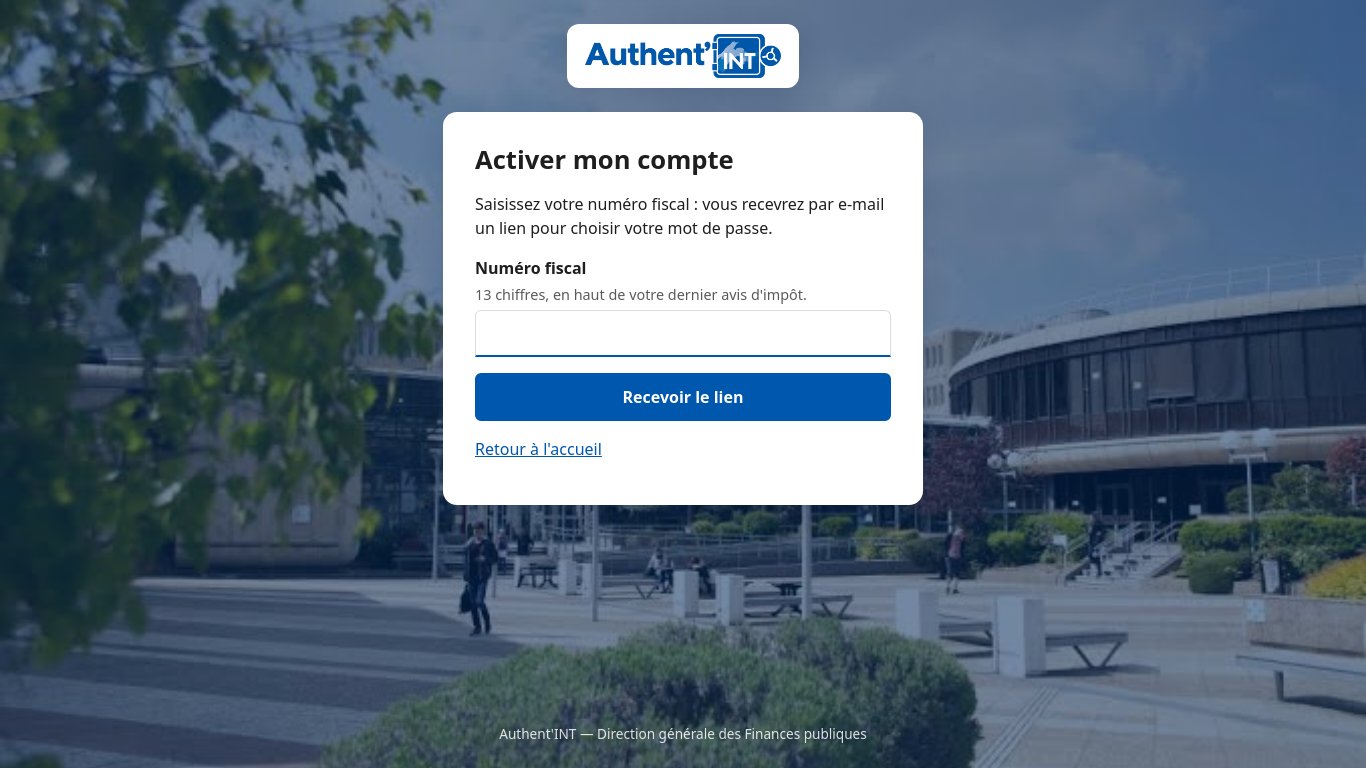
Test: asking for a activation link › says to slow down on 429
The image size is (1366, 768).
Type "0000000000429" into the field labelled "Numéro fiscal" at (683, 333), box [475,310,891,357]
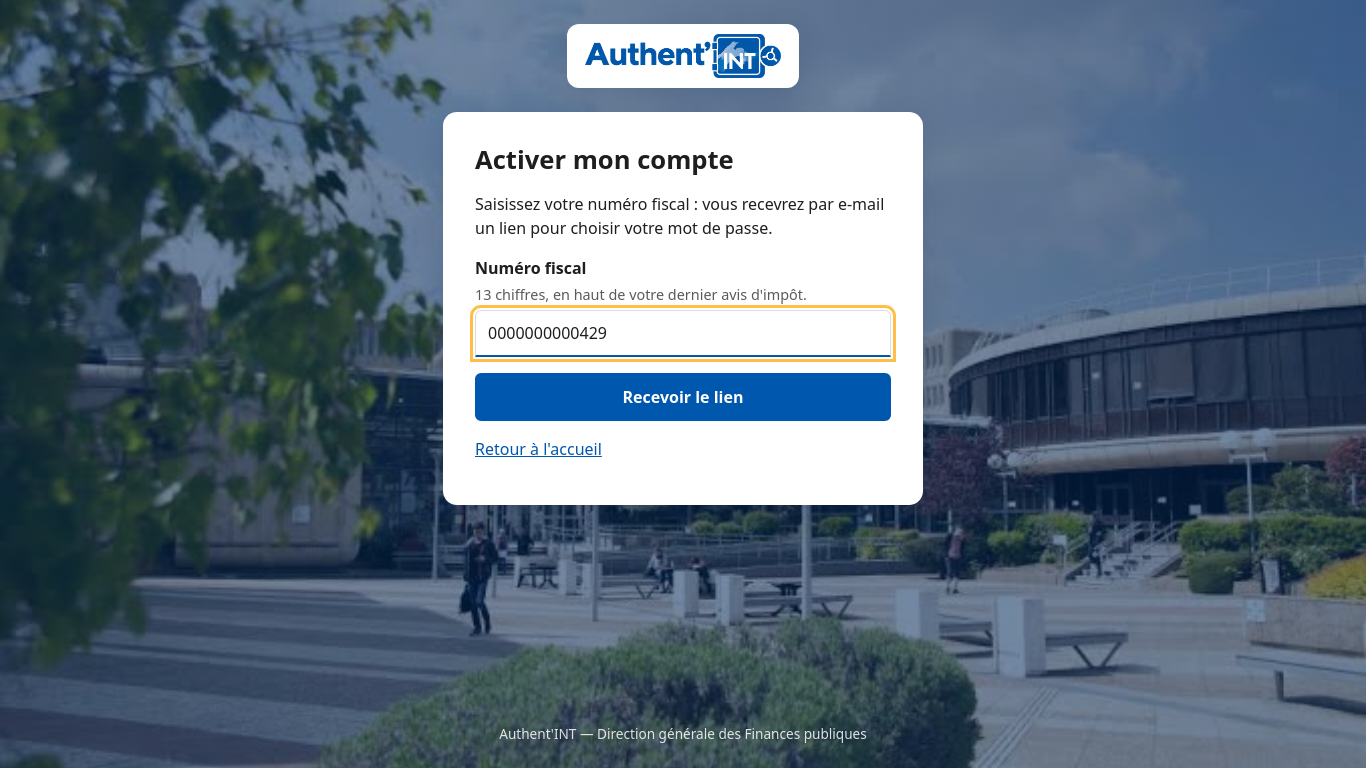
Click the button "Recevoir le lien" at (683, 397), box [475,373,891,421]
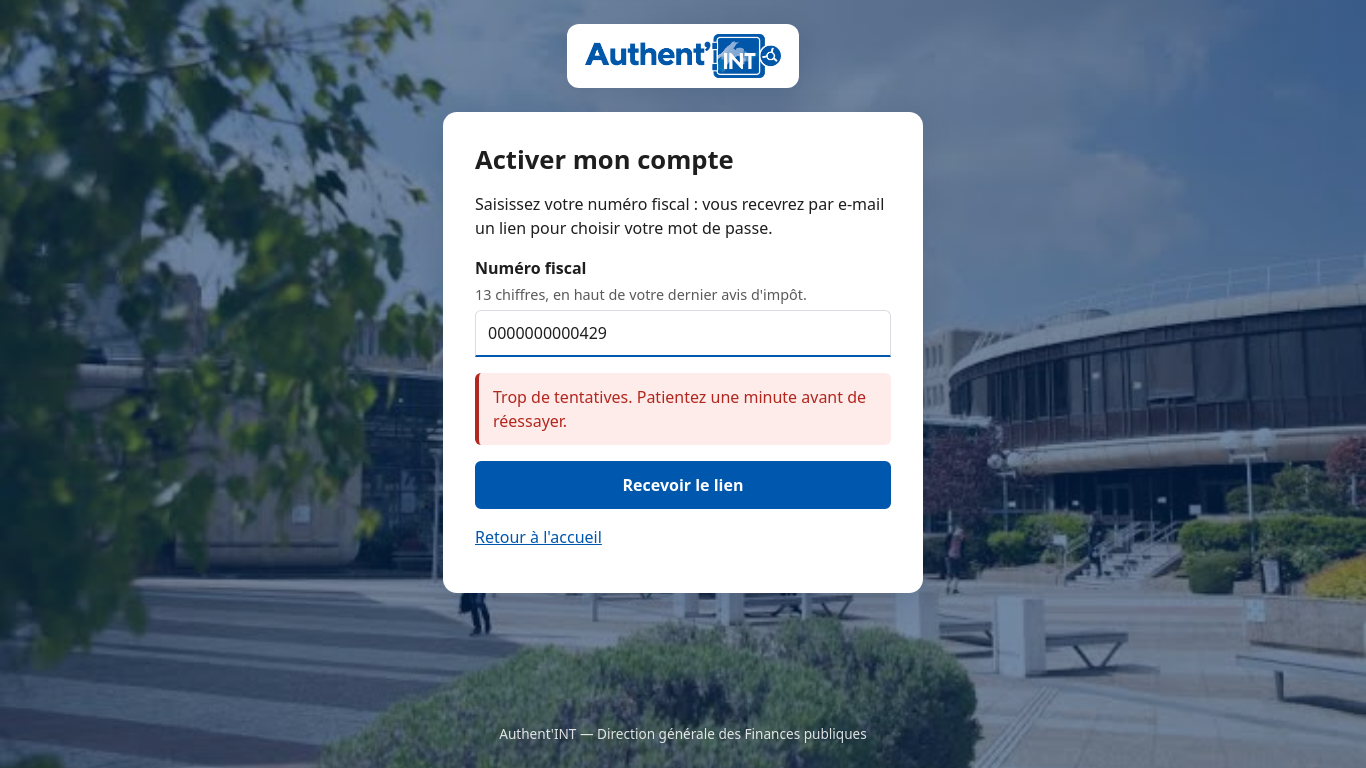
Result: the message shows "Trop de tentatives" at [493,386,866,432]
